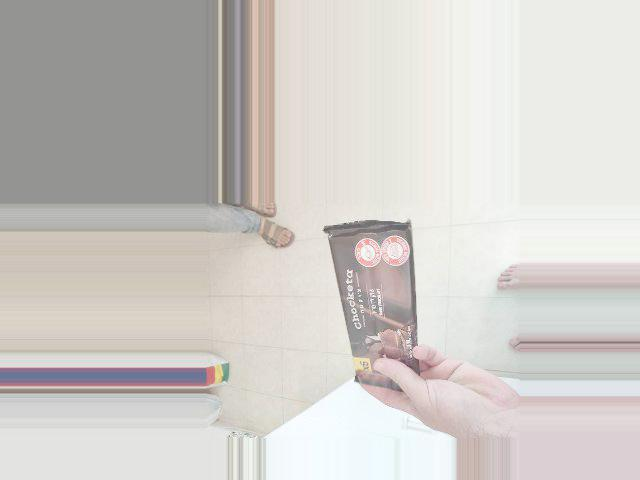chocolate: (320, 216, 434, 388)
